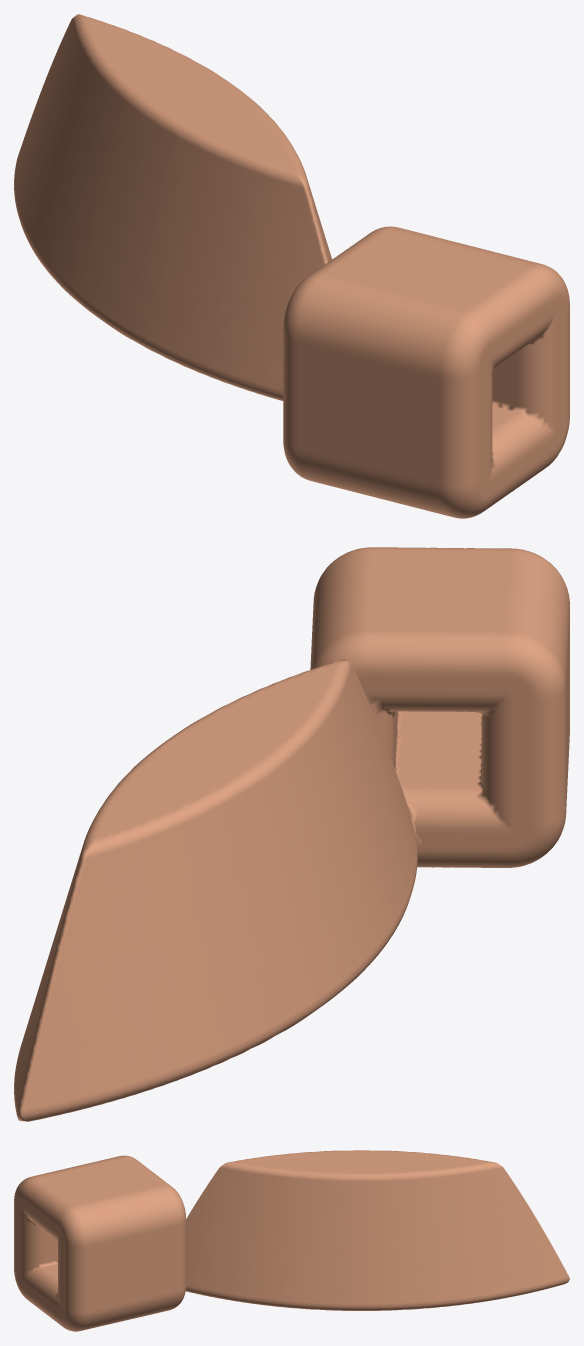
Rendered from MyCollection1.glb.
The picture shows the model from 3 angles, top to bottom: view 1: azimuth 30°, elevation 25°; view 2: azimuth 150°, elevation 25°; view 3: azimuth 270°, elevation 25°; orthographic projection. The views are drawn at different scales.
Parts seen in each view (by area): view 1: 575bbe2b-f3a3-4873-ba23-3cb74d680033; view 2: 575bbe2b-f3a3-4873-ba23-3cb74d680033; view 3: 575bbe2b-f3a3-4873-ba23-3cb74d680033.
Part boxes in pixels (left/top/right/bottom): 575bbe2b-f3a3-4873-ba23-3cb74d680033: left=14, top=14, right=569, bottom=518; 575bbe2b-f3a3-4873-ba23-3cb74d680033: left=14, top=547, right=569, bottom=1121; 575bbe2b-f3a3-4873-ba23-3cb74d680033: left=14, top=1150, right=569, bottom=1331.
Bounding box in the file's own units: 127 × 111 × 410.
